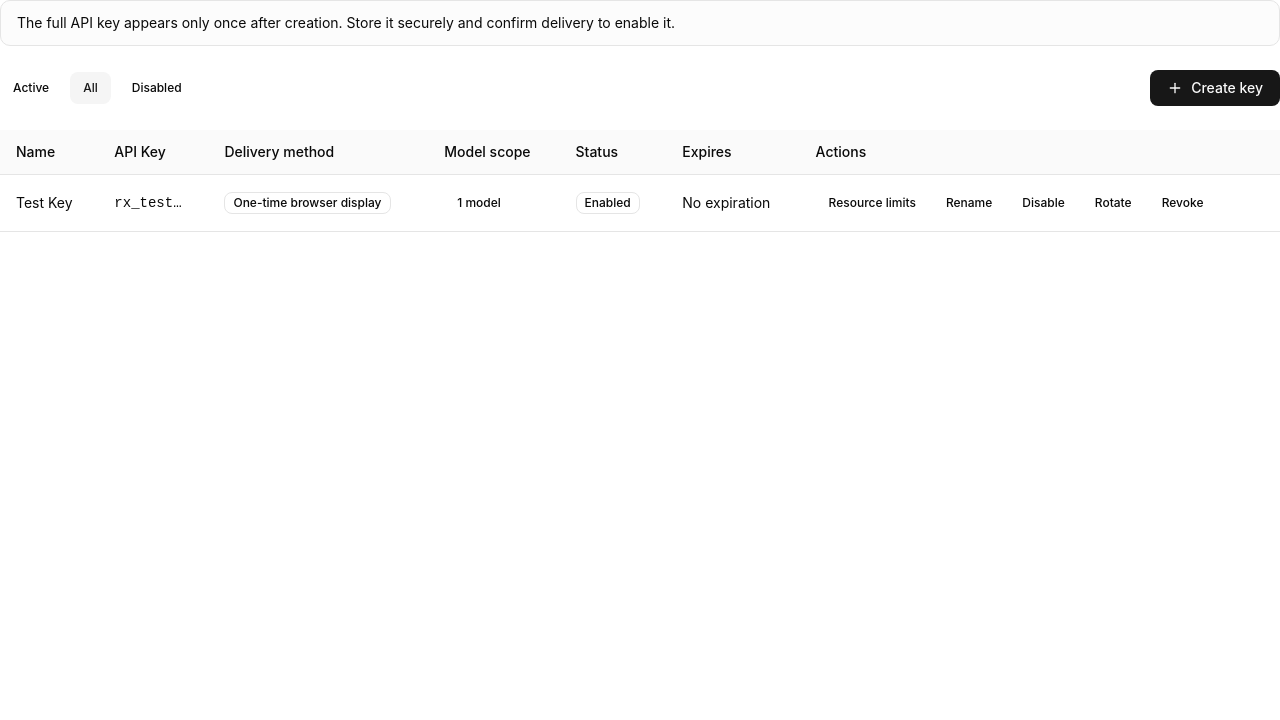
Test case: catalog and Key workflows › cancels a pending replacement without retiring its original Key
Click the button "Rotate" at (1113, 203), box [1082, 187, 1145, 219]
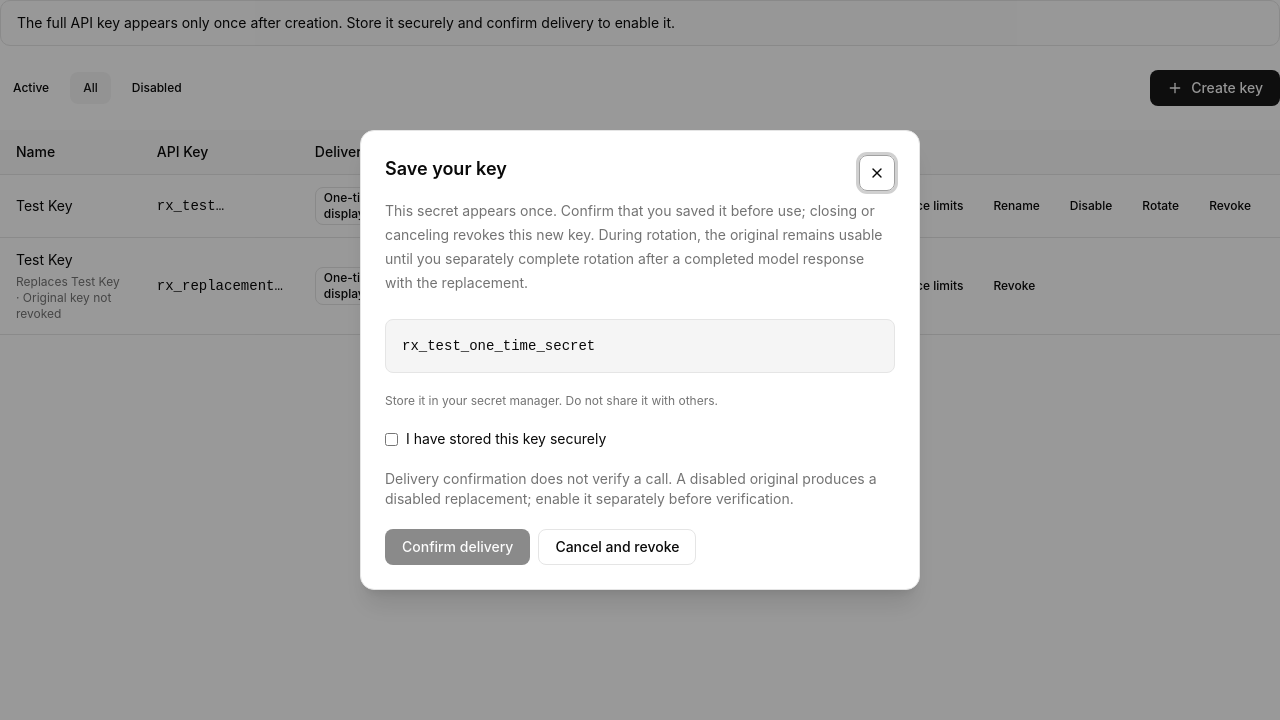
Now the text "rx_test_one_time_secret" is shown, box [385, 319, 895, 373]
Now the button "Cancel and revoke" is shown
Click the button "Cancel and revoke" at (617, 547), box [538, 529, 696, 565]
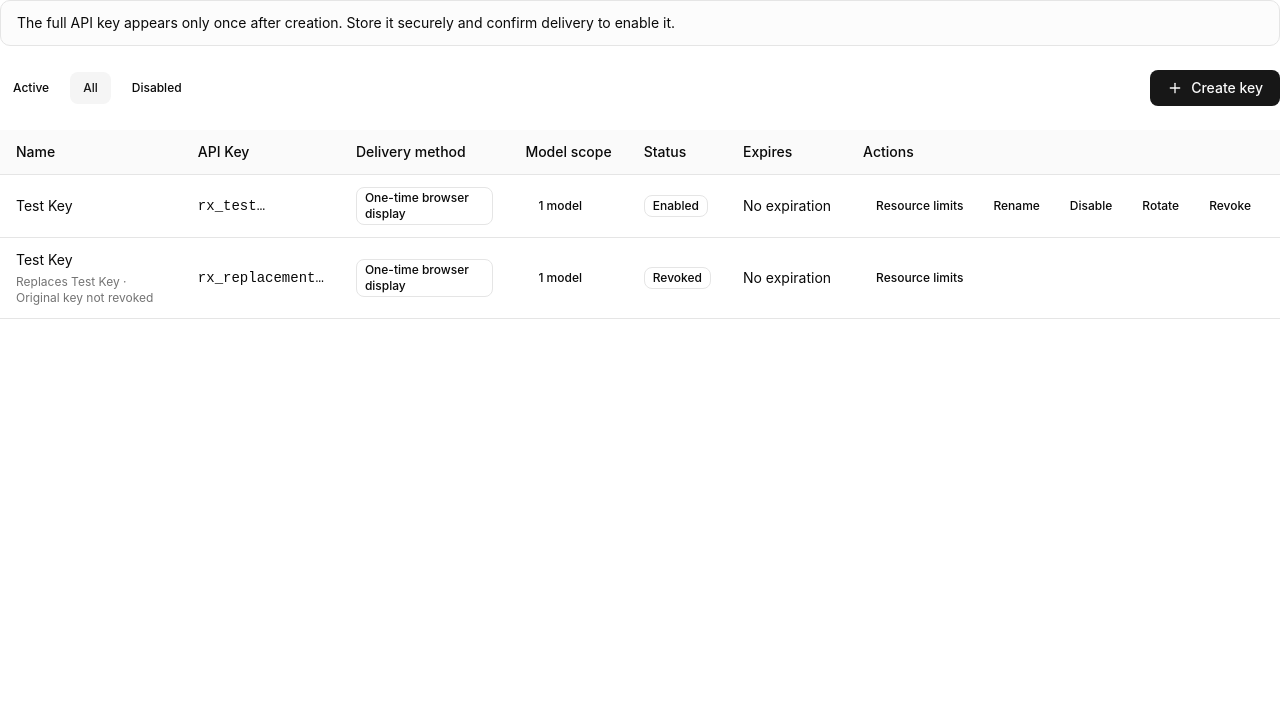
Now the text "rx_test_one_time_secret" is gone
